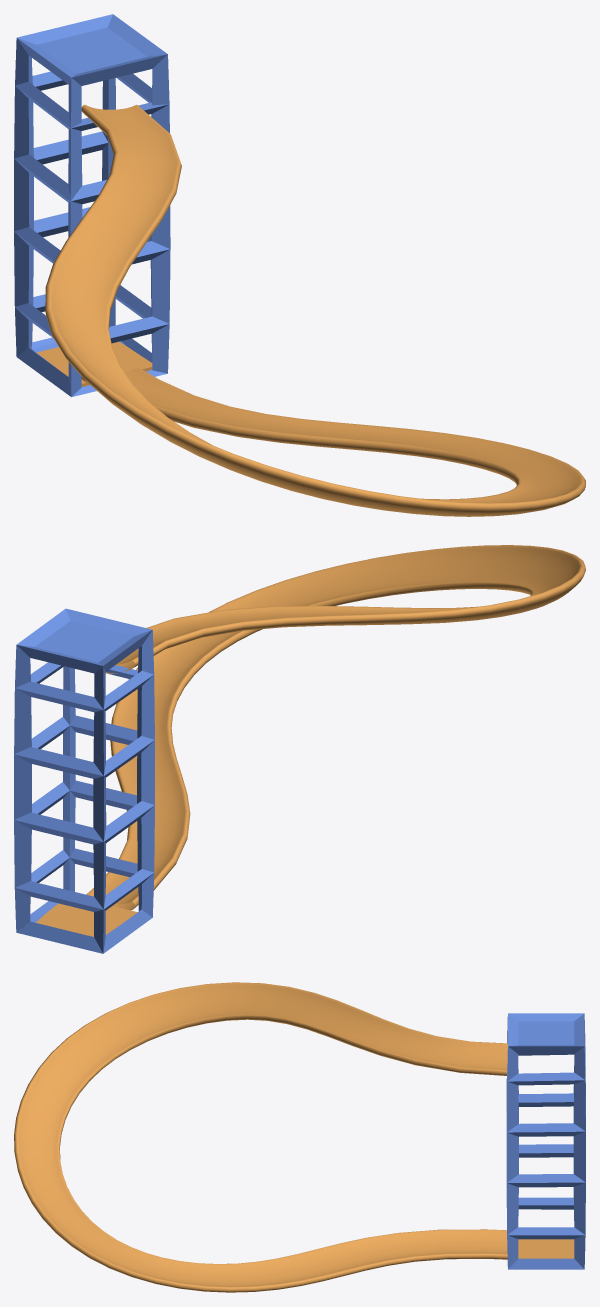
Rendered from Road1_New.fbx.
3 views of the same model, one above another, from view 1: azimuth 30°, elevation 25°; view 2: azimuth 150°, elevation 25°; view 3: azimuth 270°, elevation 25° (orthographic). The views are drawn at different scales.
Visible parts, largest first — view 1: NurbsPath.001, Cube.001, Cube.004; view 2: Cube.001, NurbsPath.001, Cube.004; view 3: NurbsPath.001, Cube.001, Cube.004.
Boxes of the visible parts, bbox=[...] form: NurbsPath.001: bbox=[45, 104, 585, 516]; Cube.001: bbox=[14, 14, 170, 397]; Cube.004: bbox=[36, 341, 152, 386]; Cube.001: bbox=[14, 608, 154, 953]; NurbsPath.001: bbox=[86, 545, 585, 910]; Cube.004: bbox=[36, 903, 137, 936]; NurbsPath.001: bbox=[14, 982, 507, 1292]; Cube.001: bbox=[506, 1013, 585, 1269]; Cube.004: bbox=[518, 1239, 574, 1258].
Bounding box in the file's own units: 3464 × 2266 × 5237.
